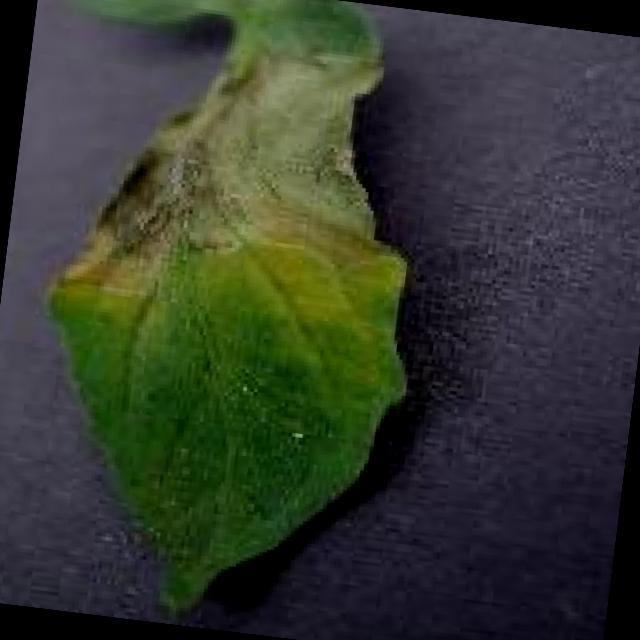leaf blight: (47, 0, 417, 627)
